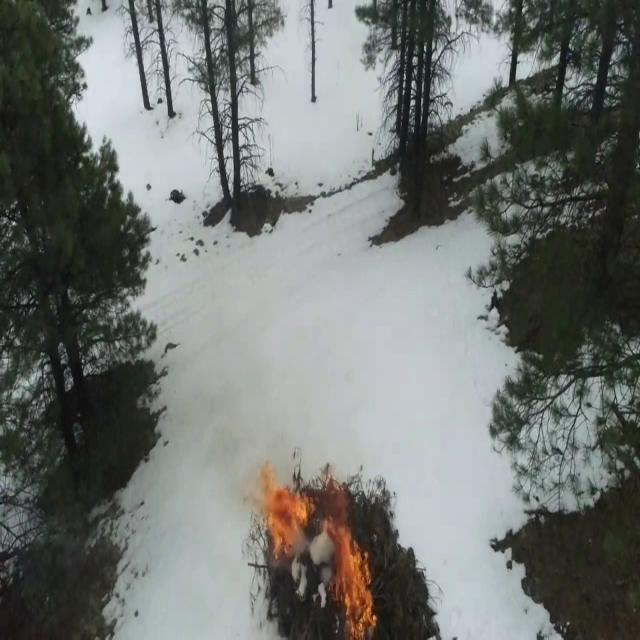fire: (336, 513, 375, 639), (258, 458, 306, 560)
